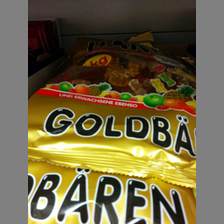candy: (29, 33, 195, 180)
